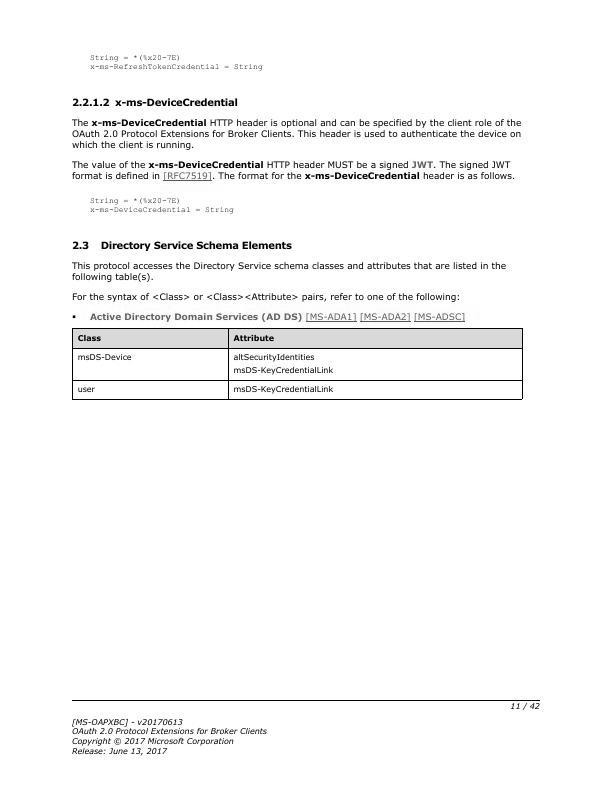table: (72, 329, 524, 401)
text: (68, 116, 523, 152), (69, 159, 515, 184), (69, 259, 508, 284), (69, 715, 268, 756), (69, 289, 464, 305), (87, 310, 466, 324), (84, 50, 264, 73), (85, 194, 239, 216), (68, 238, 295, 252), (69, 95, 240, 111)
